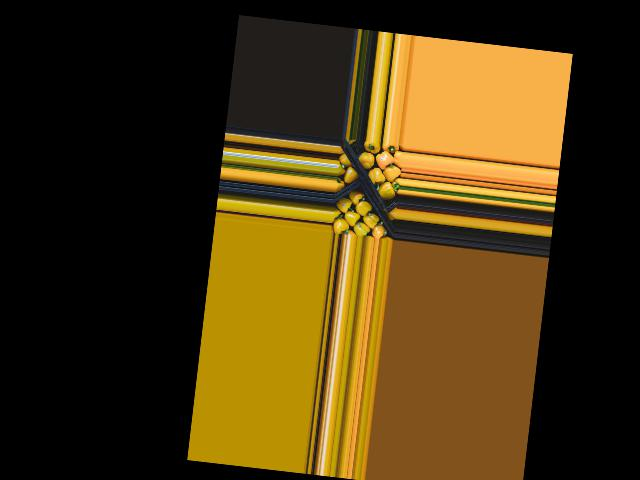bell_pepper: (329, 213, 348, 234)
